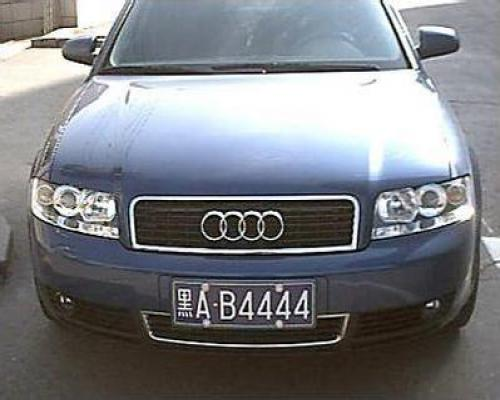Carplate: (163, 275, 321, 336)
